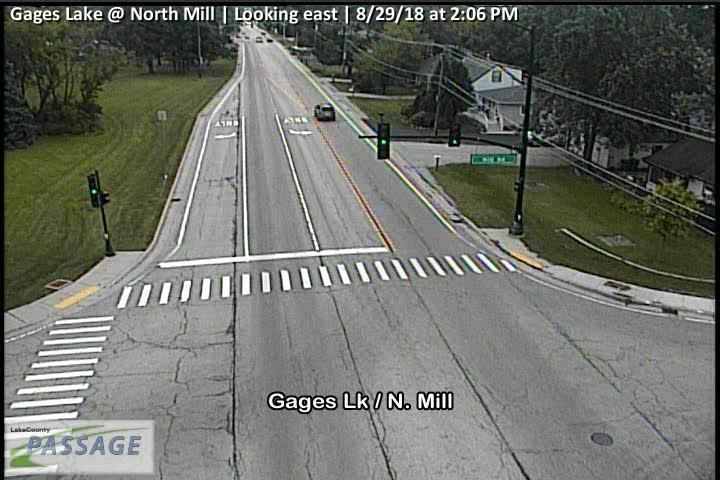SUV: (315, 102, 334, 120)
